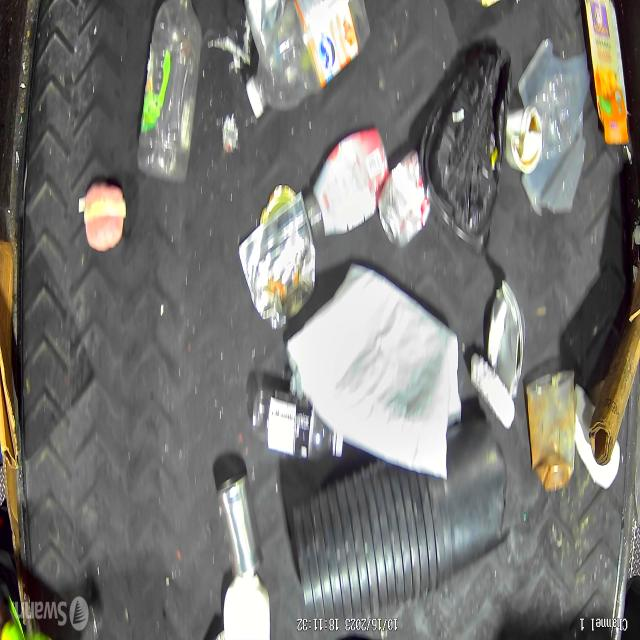can: (381, 158, 424, 244)
plastic_bottle: (246, 0, 371, 123), (138, 0, 202, 176), (254, 400, 348, 463)
